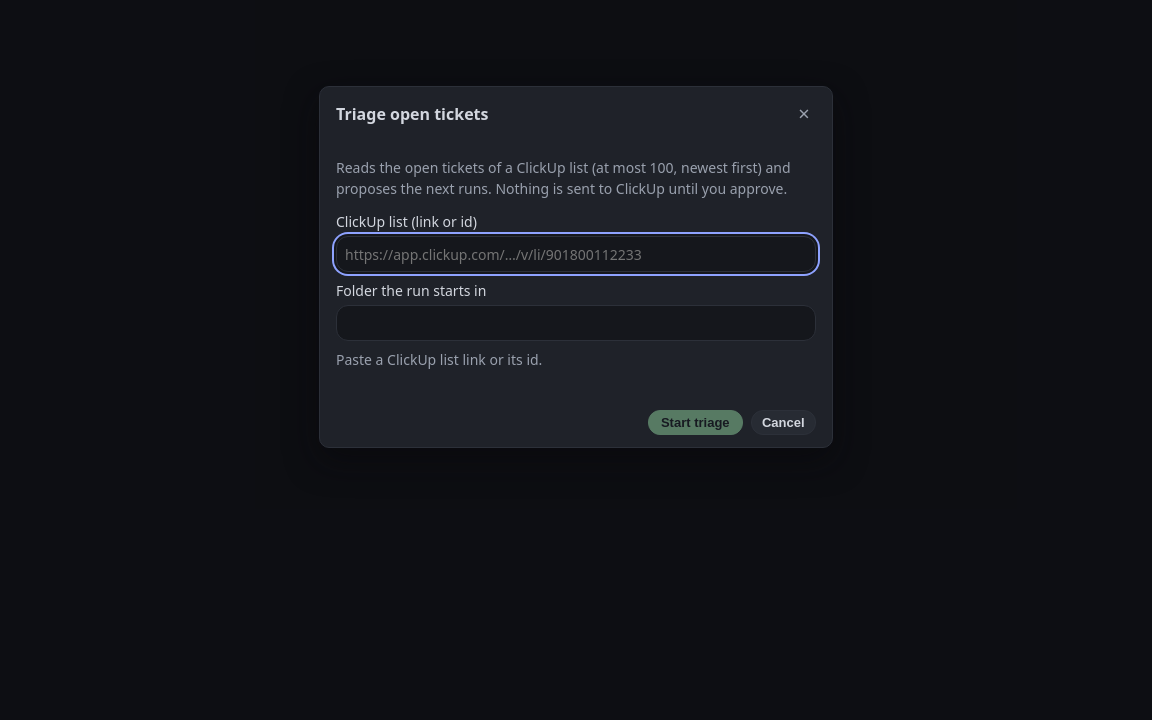
the triage start dialog › names the blocking run and keeps Start disabled
The width and height of the screenshot is (1152, 720).
Type "901800112233" into the field labelled "ClickUp list". click: (576, 254)
box: 336,236 -> 816,272
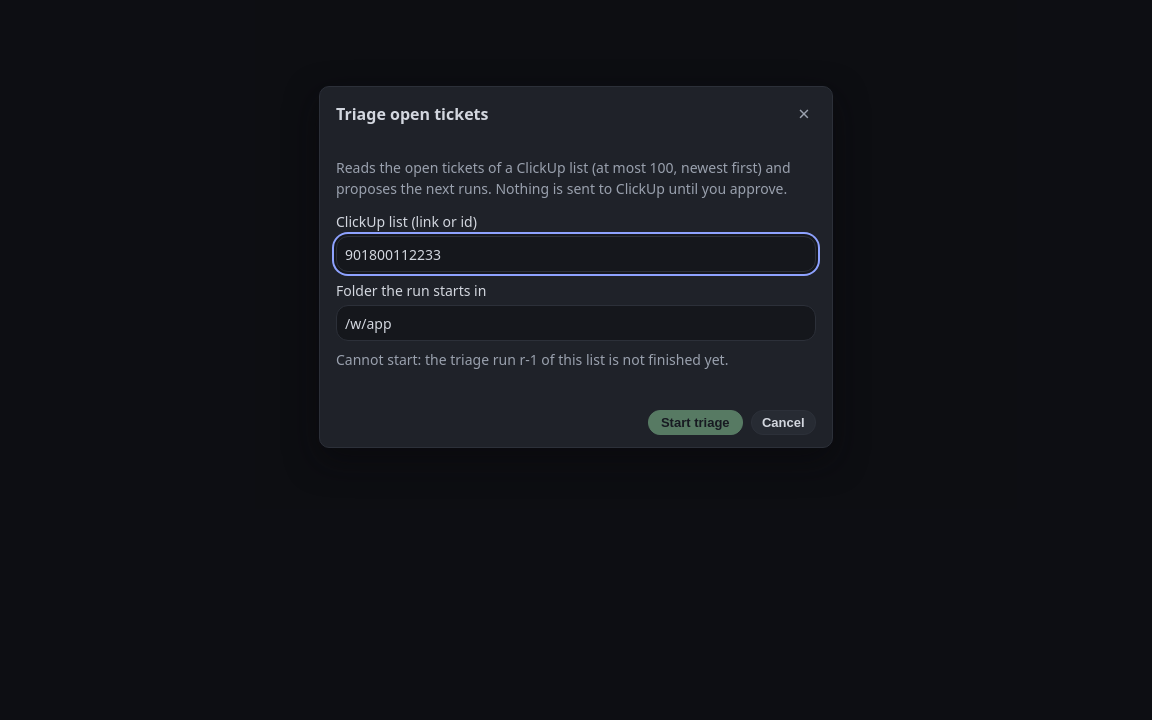
Expected: the button "Start triage" is disabled, 648,410 -> 742,435
Now the message with test id "triage-start-reason" shows "r-1", box 336,350 -> 728,369
